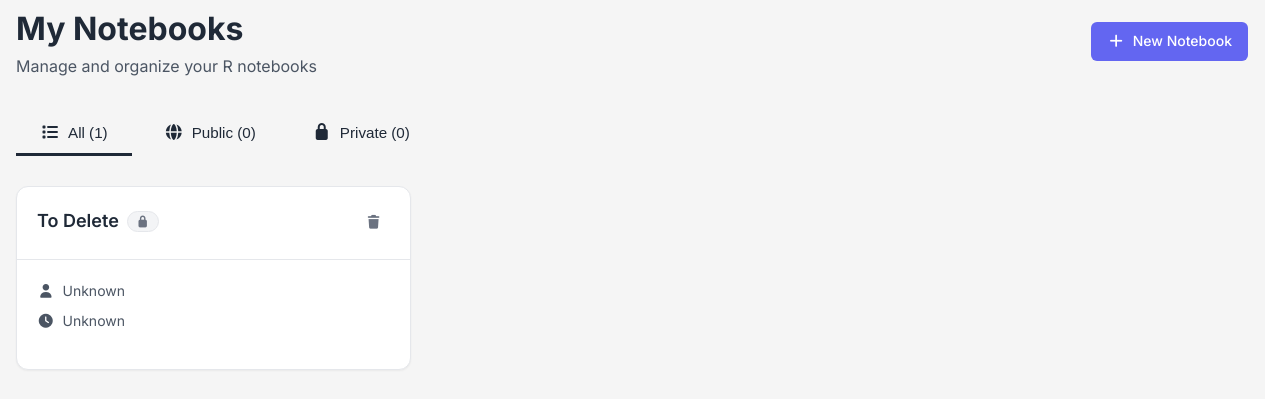
NotebookList.vue › deletes a notebook and updates the list
# Trigger deletion (ensure event modifiers like .stop are tested implicitly)
Click the button with class "btn-danger".
click(374, 223)  # box [358, 207, 390, 239]
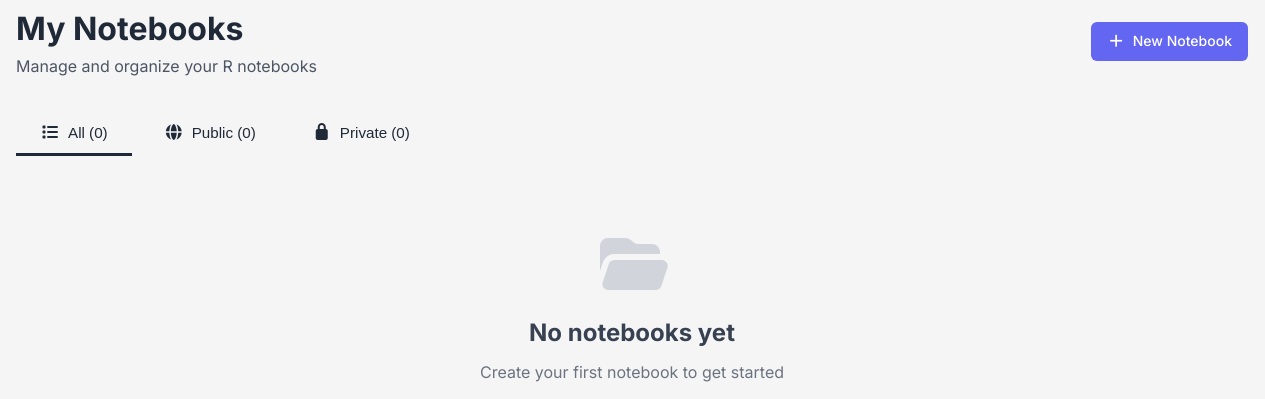
Now no elements with class "notebook-card" are shown
